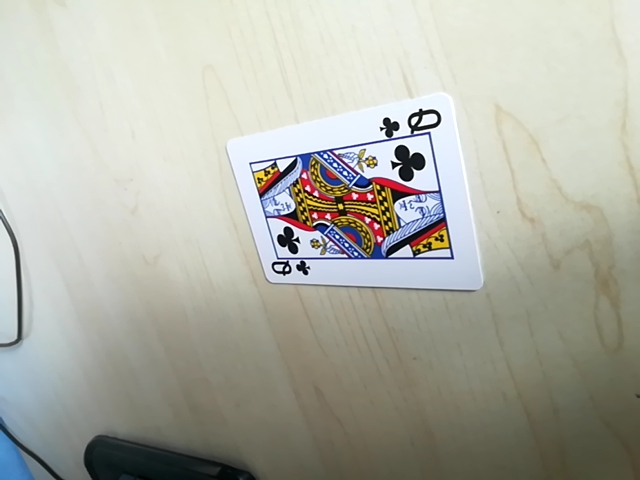mh q: (384, 104, 447, 139), (259, 251, 309, 284)
